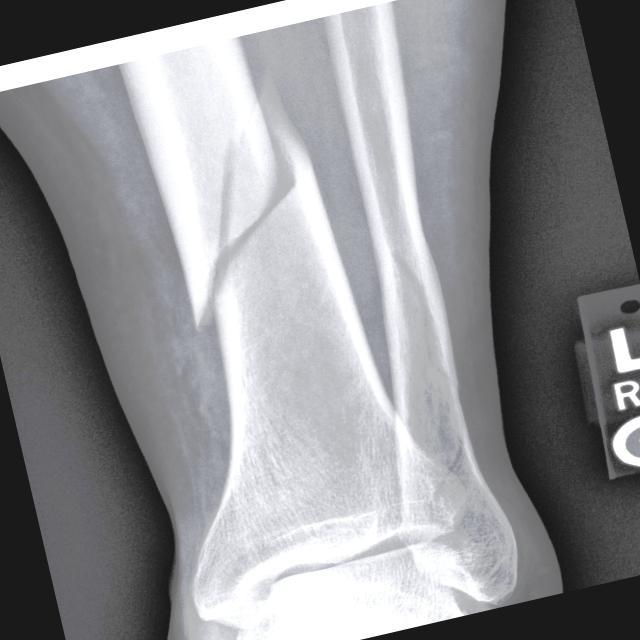Impact Fracture: (156, 154, 314, 288), (377, 238, 452, 376)
